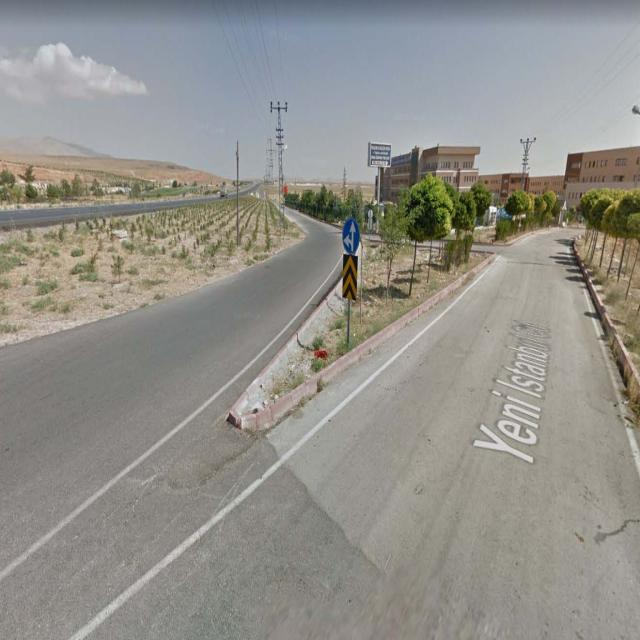ilerisol: (343, 218, 359, 253)
